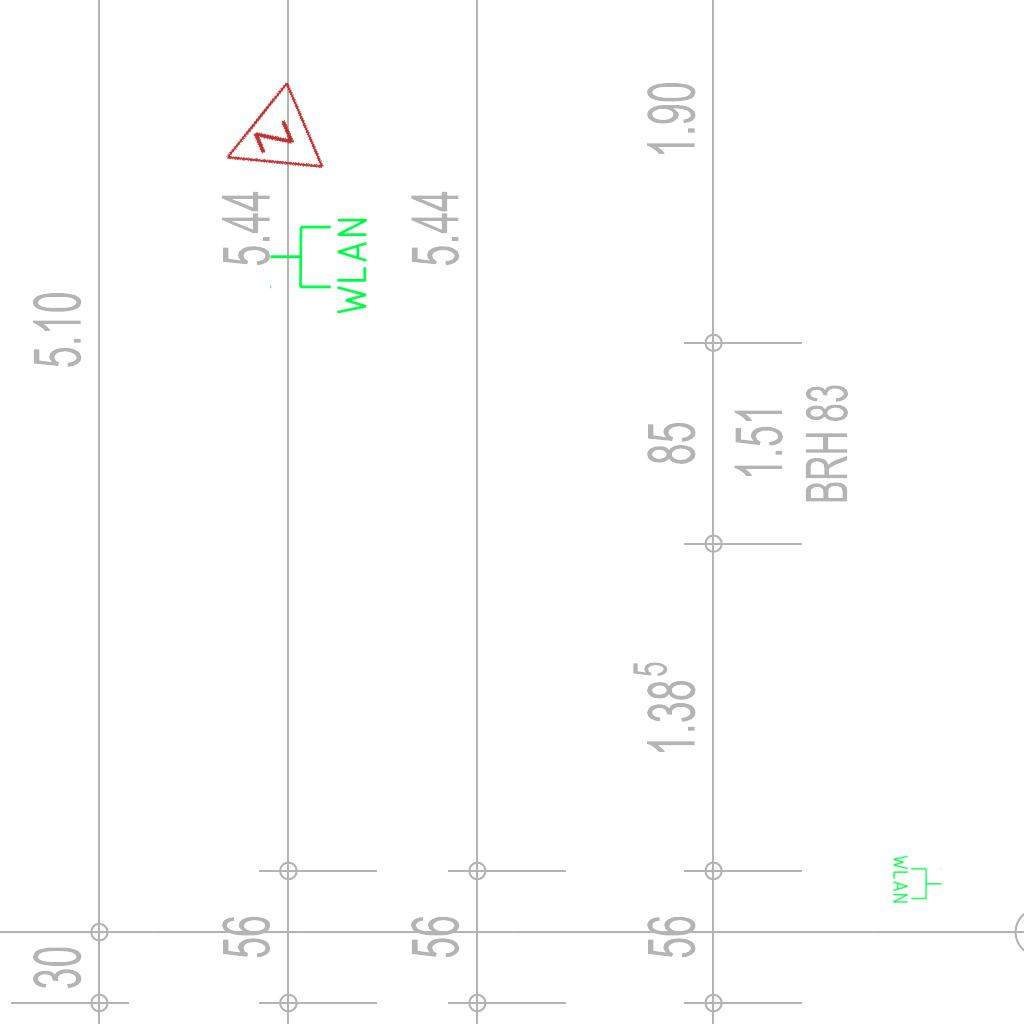WLAN: (267, 214, 371, 319), (891, 853, 943, 905)
Zimmersignalleuchte: (201, 77, 333, 207)
